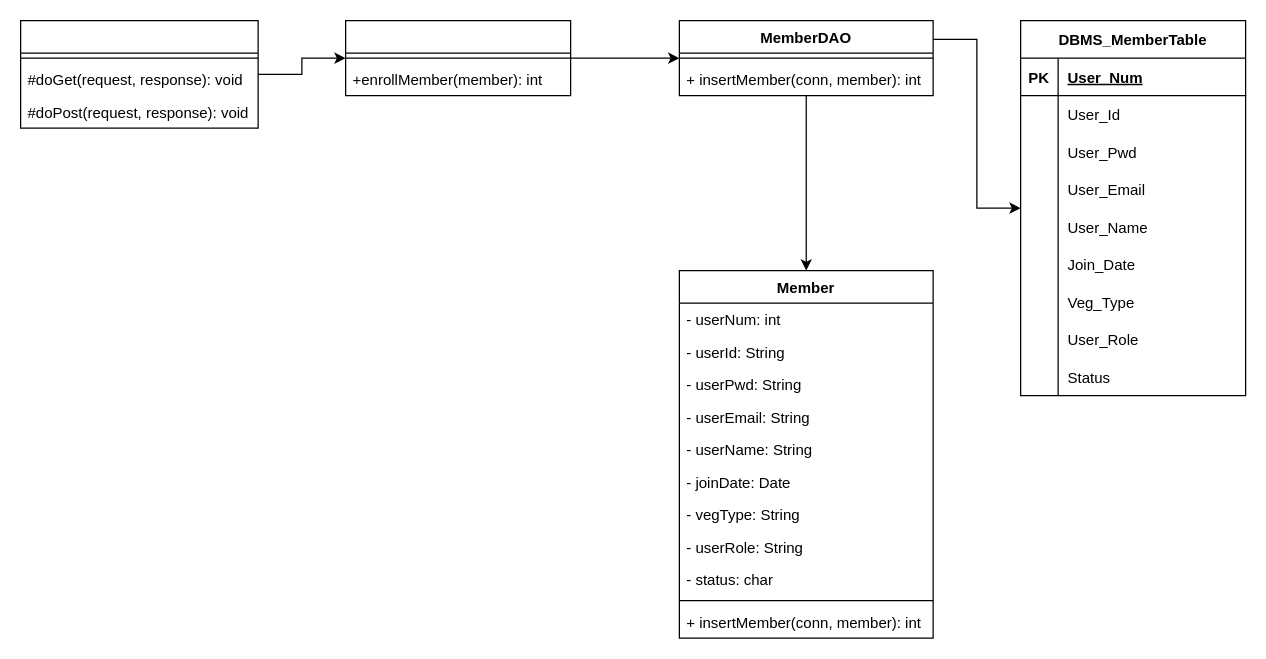
The diagram is 1266 pixels wide and 659 high, and some of its shapes have lost their labels. Each missing label, with the box of its shape:
MemberEnroll: (19, 19, 258, 128)
MemberService: (344, 19, 571, 96)
